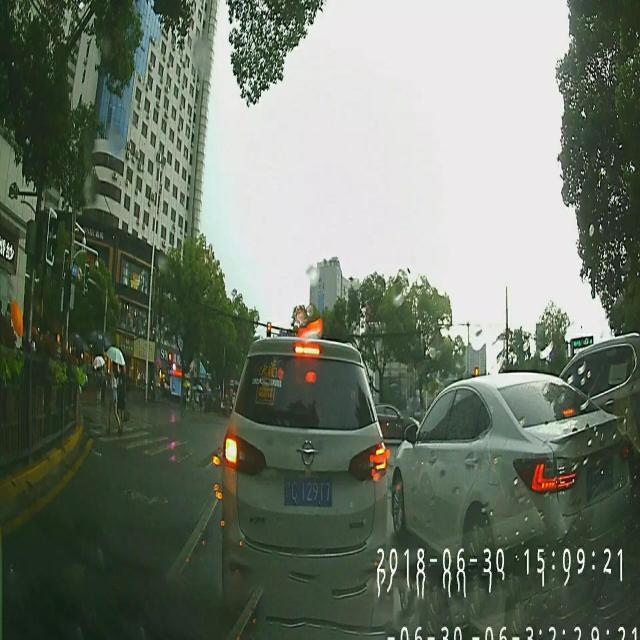car: (391, 378, 632, 594), (222, 338, 390, 640), (560, 338, 638, 456)
